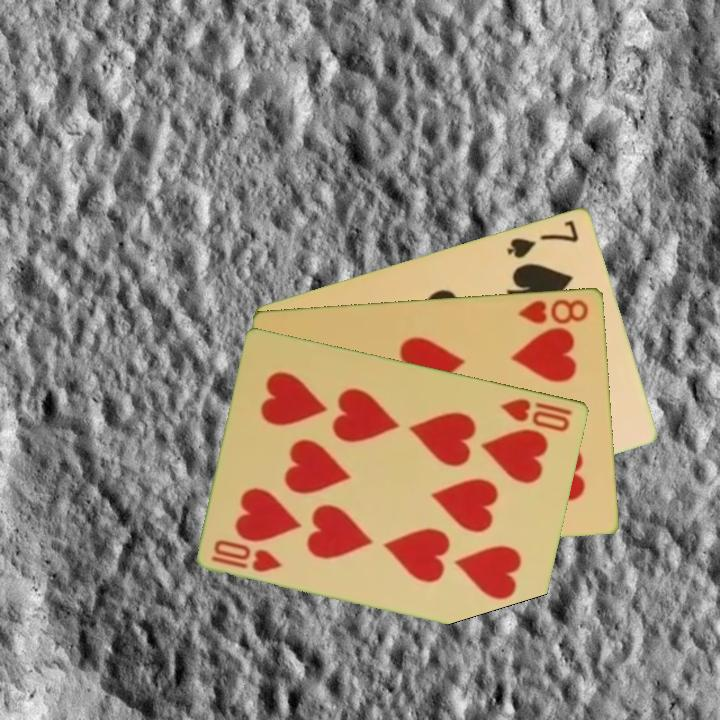10h: (497, 394, 576, 434), (208, 536, 285, 575)
7s: (503, 216, 582, 261)
8h: (515, 295, 592, 326)
